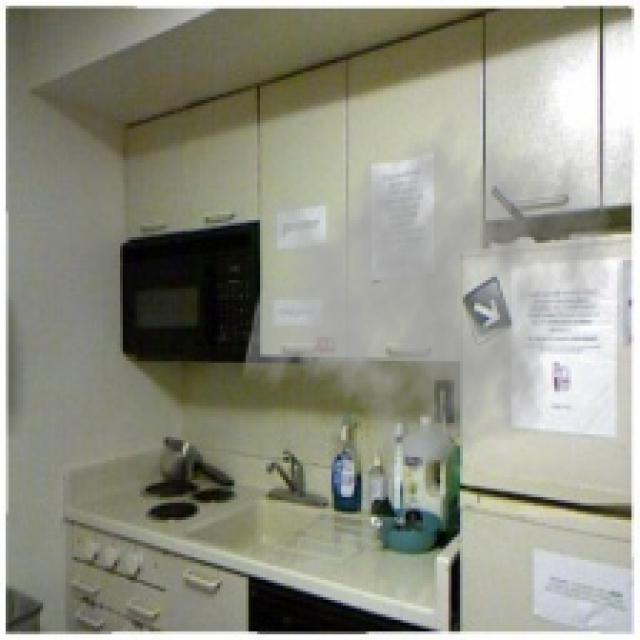Smoke: (240, 97, 617, 483)
